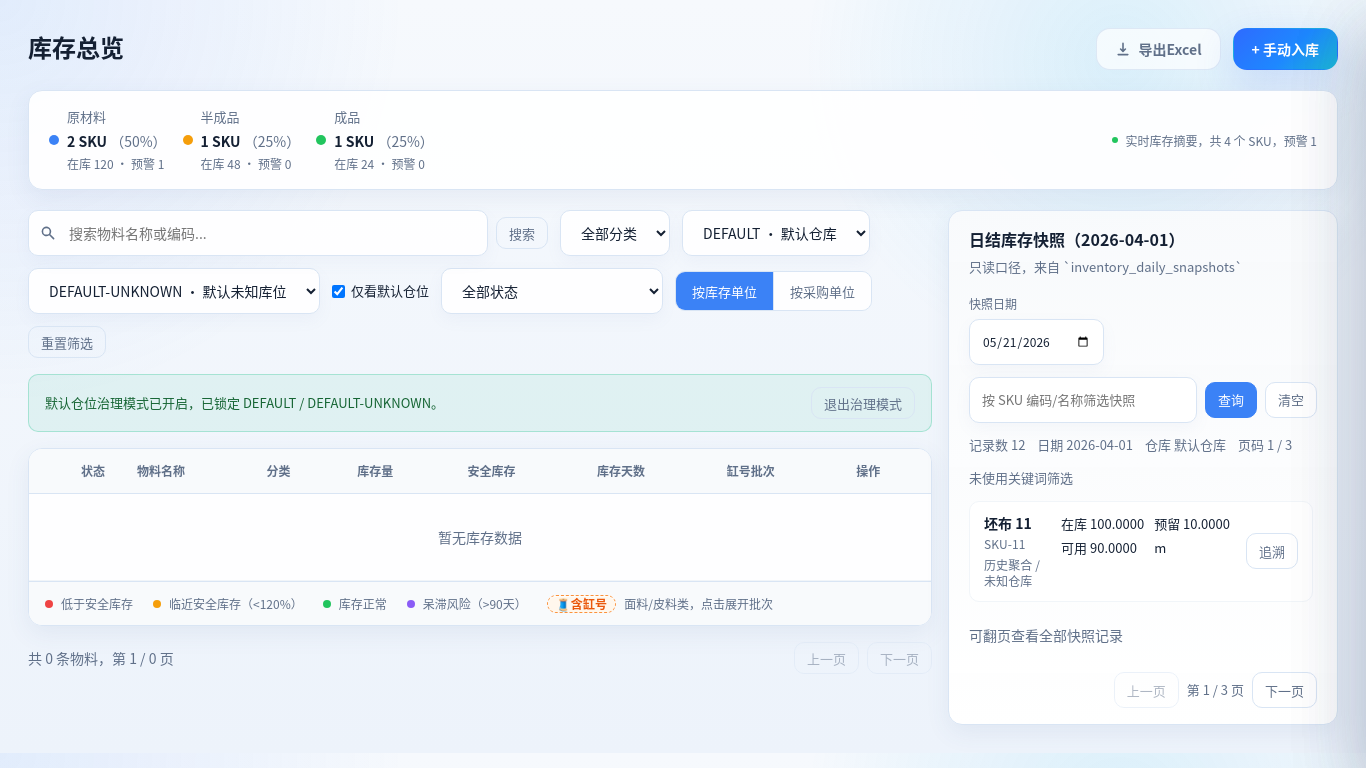
Test case: InventoryPage › 默认仓位治理模式应自动锁定默认仓位并支持退出
The width and height of the screenshot is (1366, 768).
Expected: the text "默认仓位治理模式已开启，已锁定 DEFAULT / DEFAULT-UNKNOWN。" is shown, x1=45 y1=393 x2=444 y2=414
Expected: the dropdown named "筛选仓库" is disabled, x1=682 y1=210 x2=870 y2=256
What coordinates should you click on to do the following:
click the button "退出治理模式"
I would click on:
 (863, 403)
Its box is x1=811 y1=387 x2=915 y2=419.
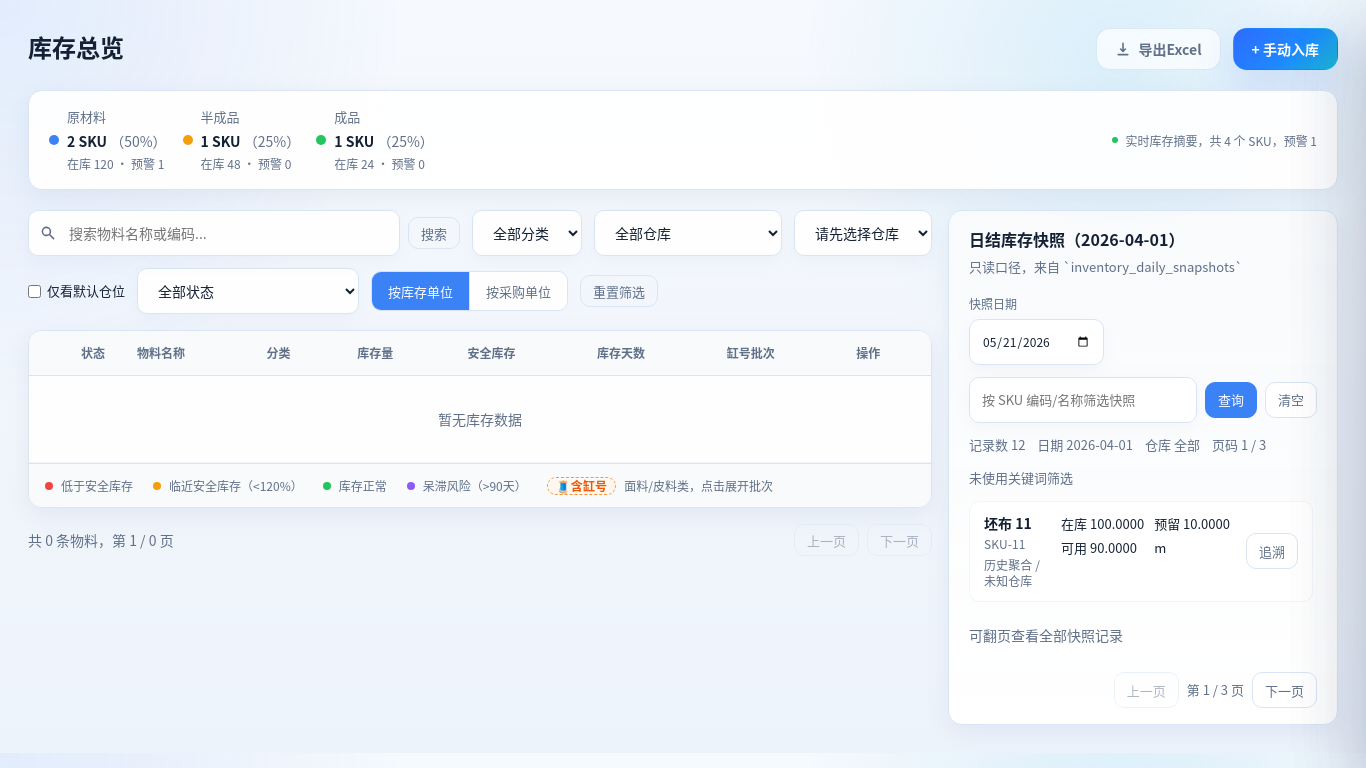
Result: the text "默认仓位治理模式已开启" is gone
